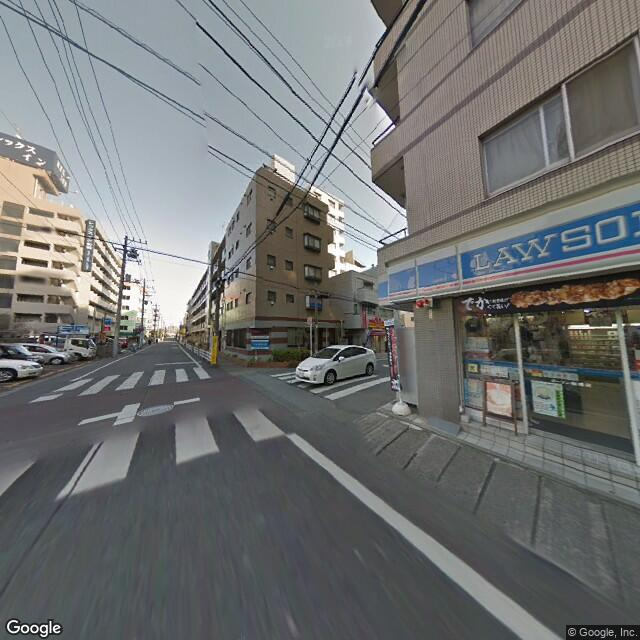lawson: (373, 182, 639, 312)
